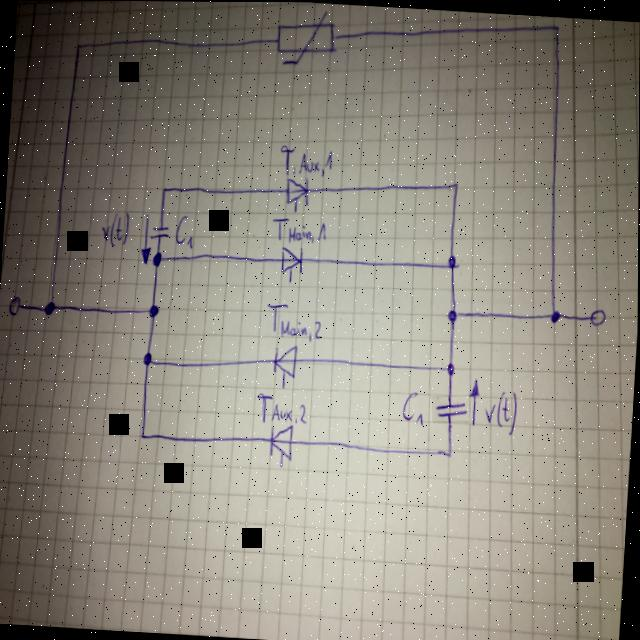capacitor: (434, 396, 469, 420), (148, 222, 170, 239)
junction: (149, 248, 165, 268), (445, 250, 461, 270), (445, 304, 460, 325), (548, 307, 561, 324), (42, 298, 55, 315), (147, 301, 159, 318), (444, 358, 455, 376), (141, 348, 152, 366), (444, 443, 455, 460), (72, 37, 83, 52), (450, 175, 461, 190), (550, 19, 561, 33), (157, 181, 168, 195), (137, 429, 147, 442)
terminal: (588, 303, 607, 326), (6, 292, 22, 317)
text: (264, 299, 324, 342), (254, 388, 310, 426), (276, 141, 335, 176), (481, 386, 519, 434), (269, 214, 327, 245), (98, 206, 131, 246), (401, 387, 427, 424), (172, 212, 197, 249)
thyristor: (266, 420, 295, 463), (270, 341, 299, 380), (278, 243, 304, 276), (284, 175, 310, 206)
